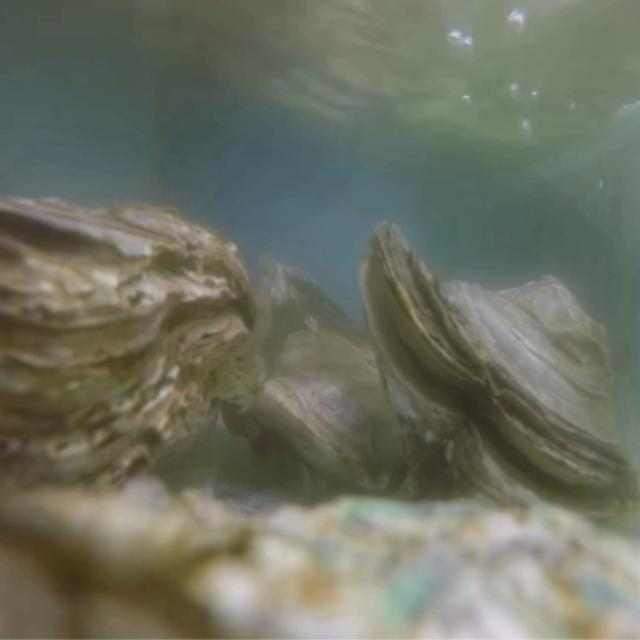Oyster-Closed: (0, 196, 258, 533)
Oyster-Indeterminate: (0, 477, 640, 640), (263, 331, 419, 502)
Oyster-Open: (358, 221, 640, 539)
